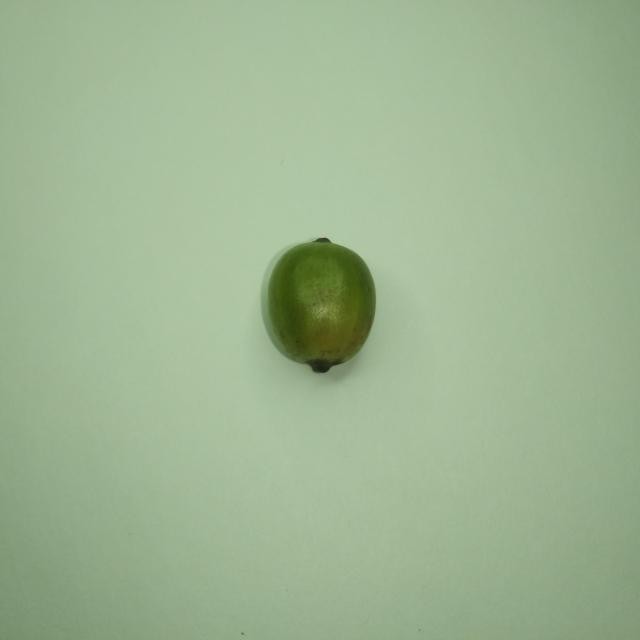Sano: (262, 238, 375, 372)
